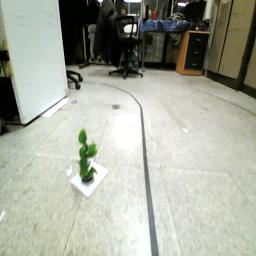herb: (77, 129, 104, 182)
